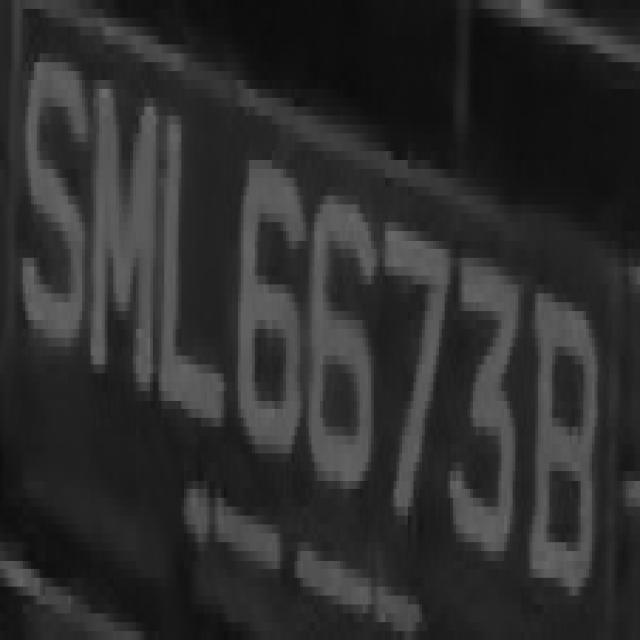3: (450, 204, 527, 586)
6: (308, 125, 379, 524), (232, 115, 306, 489)
7: (380, 169, 453, 560)
B: (538, 231, 609, 622)
L: (162, 53, 226, 480)
M: (90, 26, 162, 426)
S: (22, 27, 88, 382)
